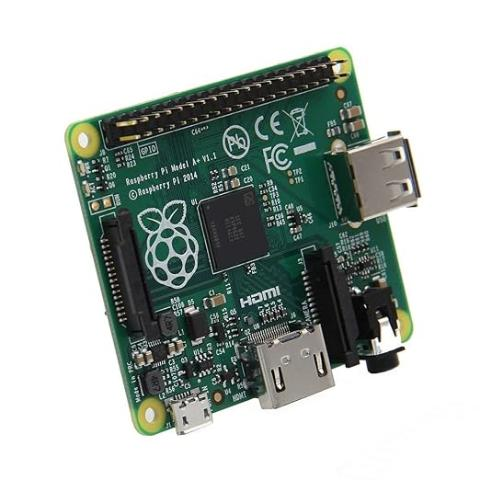Raspberry-Pi-1-Model-A-: (44, 36, 438, 458)
